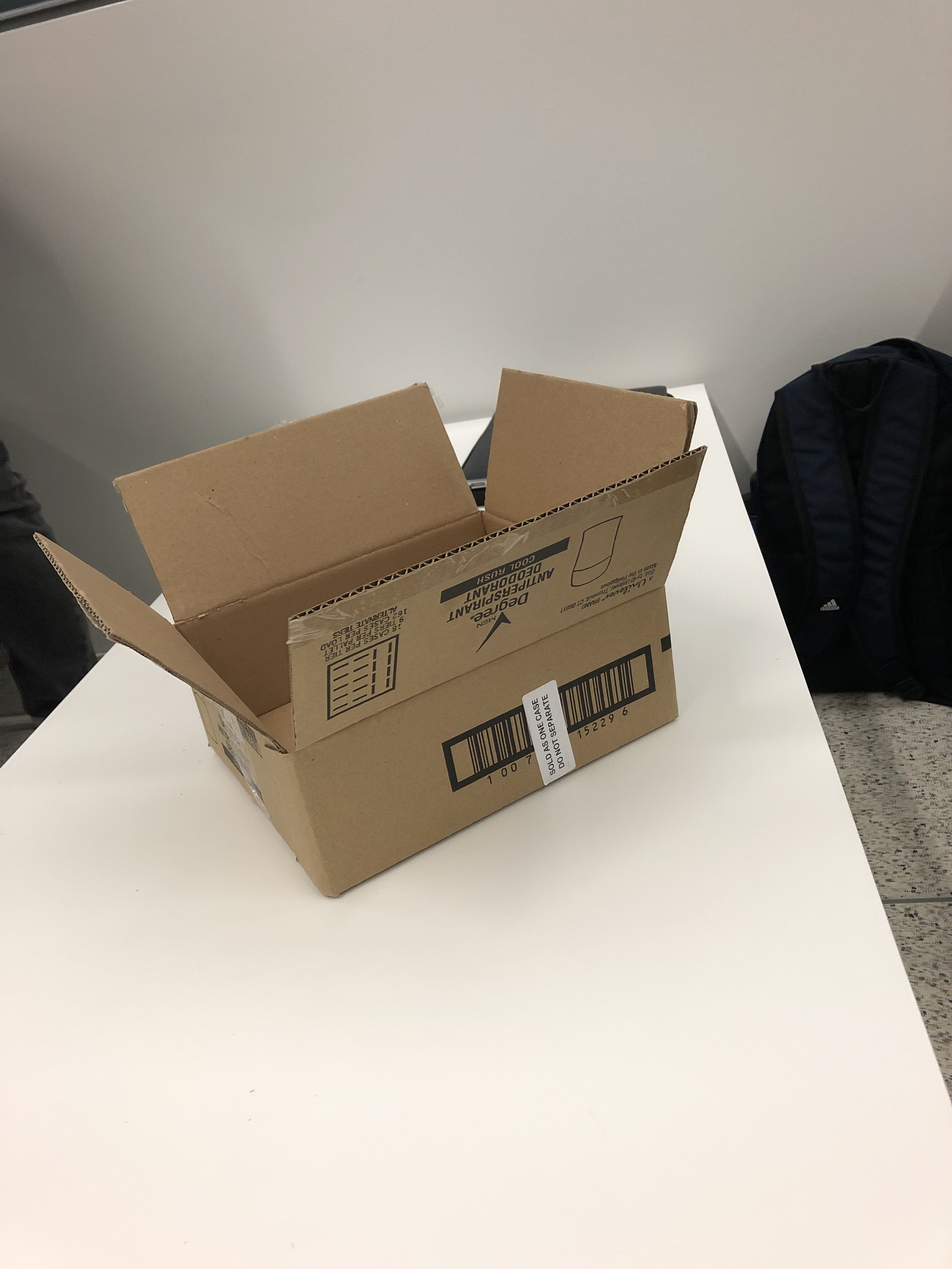box: (16, 371, 706, 900)
crushed: (33, 376, 707, 750)
